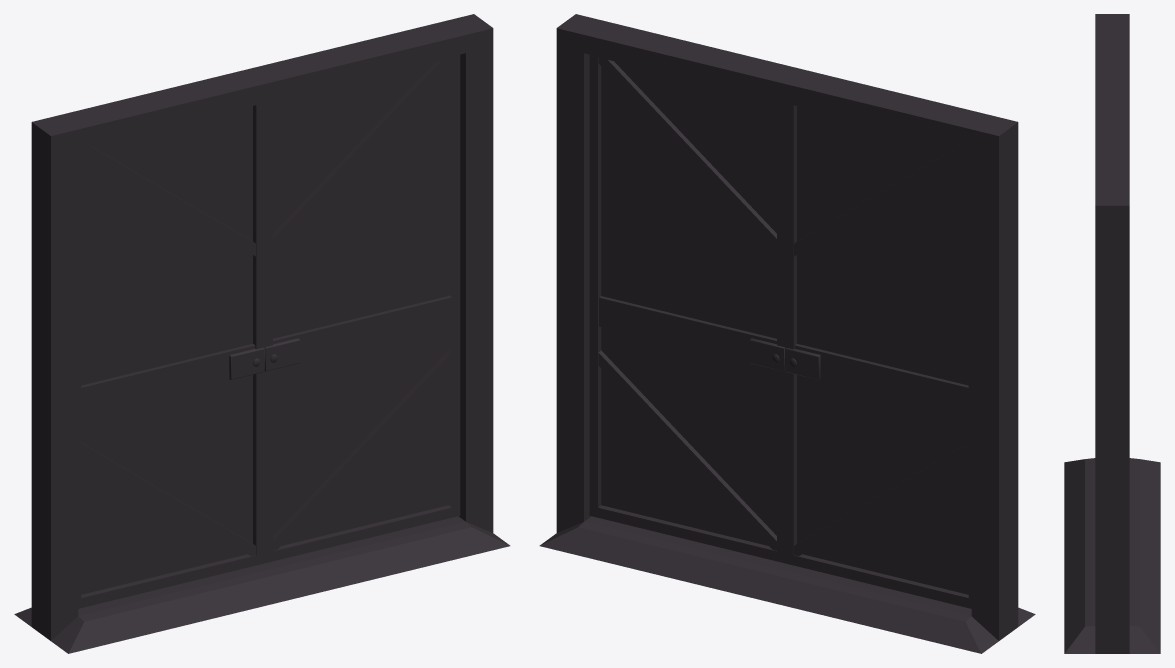
File: new dveri.fbx
3 renders of one model, left to right at view 1: azimuth 30°, elevation 25°; view 2: azimuth 150°, elevation 25°; view 3: azimuth 270°, elevation 25°, orthographic. The views are drawn at different scales.
Visible parts, largest first — view 1: Doorway_Baked_002_2; view 2: Doorway_Baked_002_2; view 3: Doorway_Baked_002_2.
Boxes of the visible parts, left/top/right/bottom form: Doorway_Baked_002_2: left=14, top=14, right=510, bottom=653; Doorway_Baked_002_2: left=539, top=14, right=1035, bottom=653; Doorway_Baked_002_2: left=1064, top=14, right=1160, bottom=653.
Bounding box in the file's own units: 80.49 × 87.79 × 17.07.
